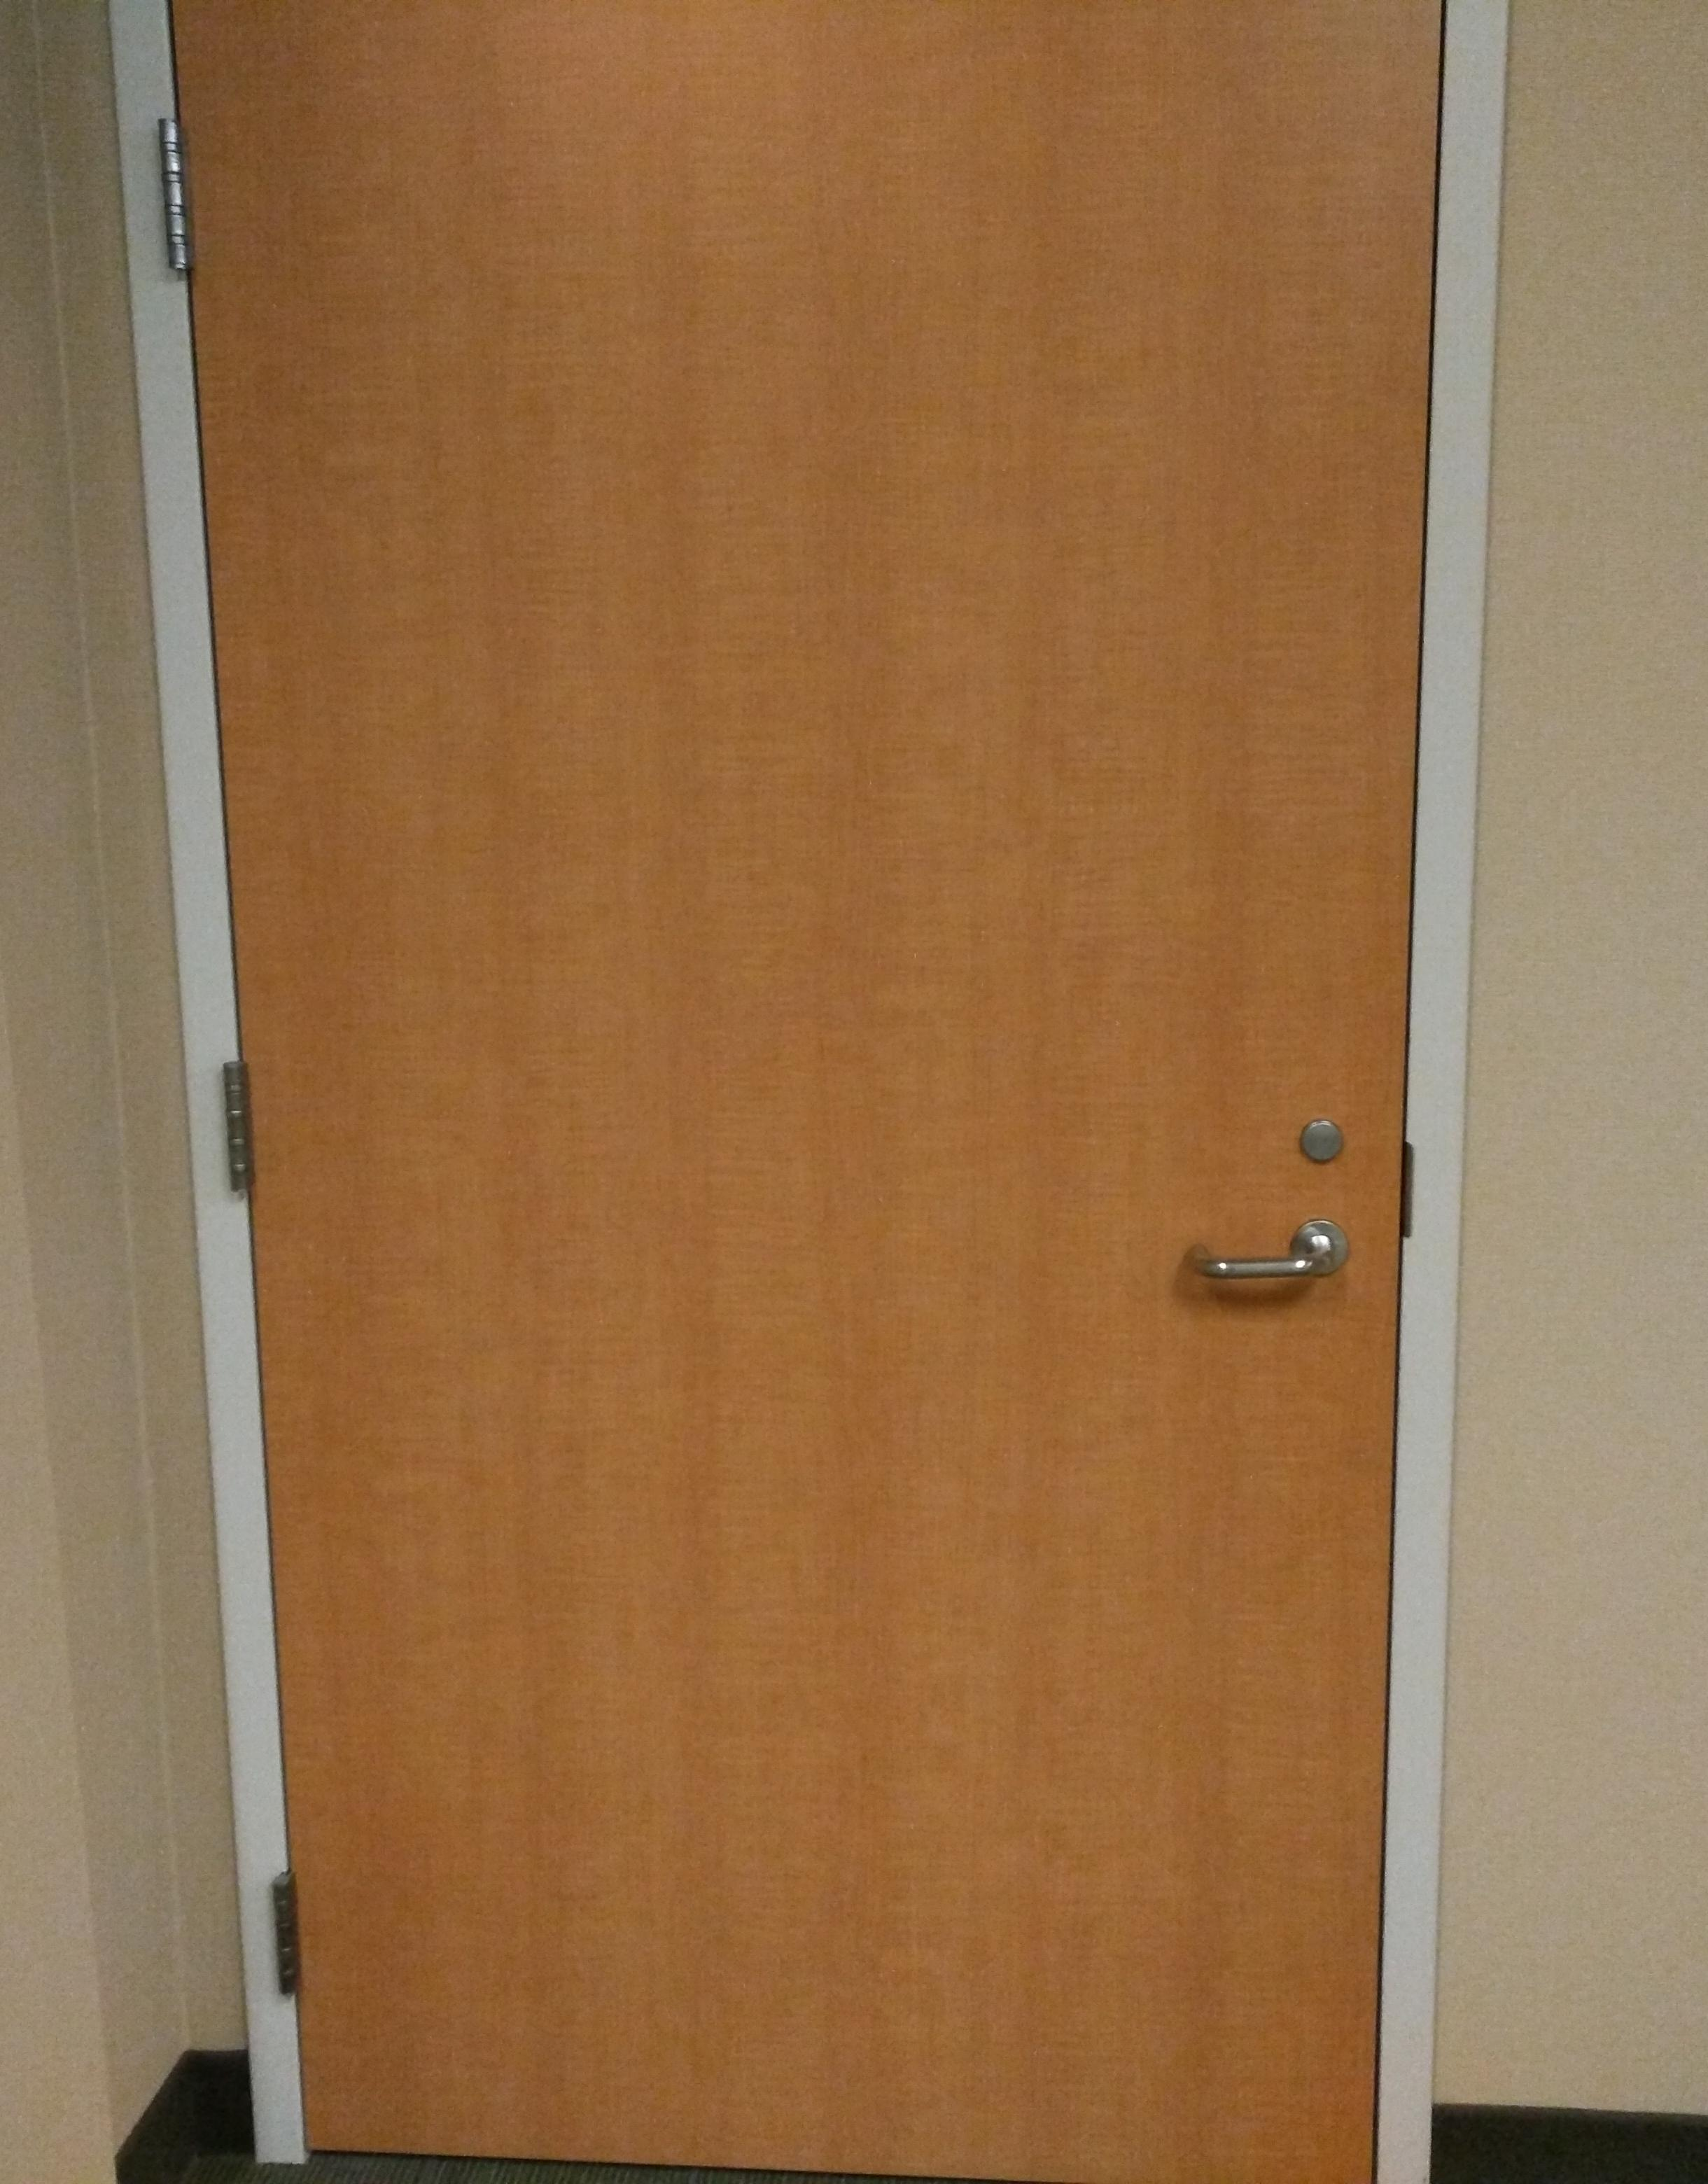door: (156, 0, 1396, 2177)
